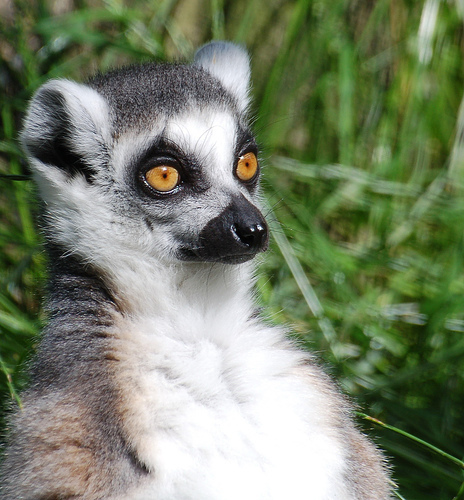cat: (0, 35, 403, 498)
